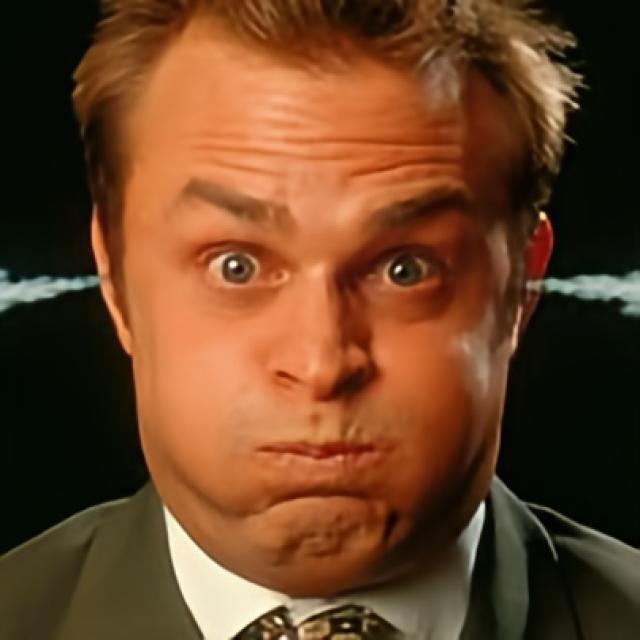fear: (132, 37, 512, 584)
